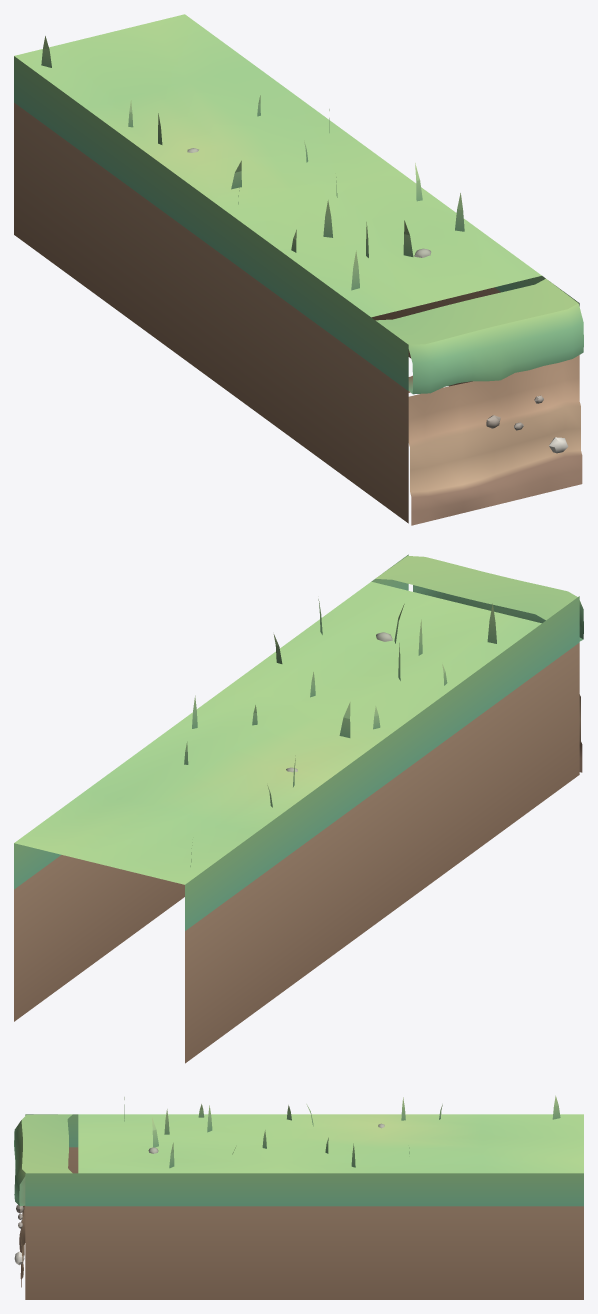
Rendered from ground_grass_2.glb.
3 renders of one model, top to bottom at view 1: azimuth 30°, elevation 25°; view 2: azimuth 150°, elevation 25°; view 3: azimuth 270°, elevation 25°, orthographic. The views are drawn at different scales.
Parts seen in each view (by area): view 1: ground_grass_2; view 2: ground_grass_2; view 3: ground_grass_2.
Boxes of the visible parts, x1,y1,x2,y2 form: ground_grass_2: [14, 14, 583, 525]; ground_grass_2: [14, 554, 583, 1063]; ground_grass_2: [14, 1095, 583, 1299].
Size of the model in its own units: 1 by 1.22 by 4.08.
